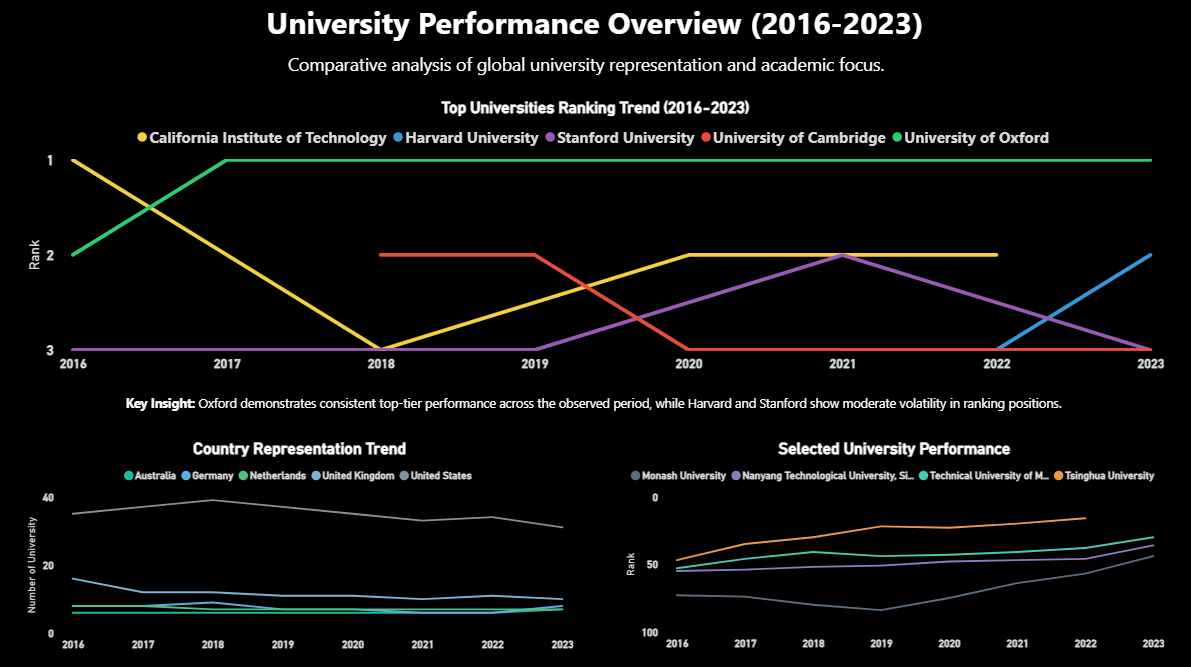

Layout of this report page (visuals, bound fields, positions):
{"tool":"powerbi","page":{"name":"Ranking Trend","canvas":[1280,720],"ordinal":2},"visuals":[{"type":"lineChart","title":"Country Representation Trend","fields":{"Series":["CLEANED DATA (2).location"],"Category":["CLEANED DATA (2).year"],"Y":["CountNonNull(CLEANED DATA (2).name)"]},"box":[30.2,469.2,590.1,232.2],"z":0},{"type":"lineChart","title":"Top Universities Ranking Trend (2016-2023)","fields":{"Category":["CLEANED DATA 2 (2).year"],"Series":["CLEANED DATA 2 (2).name"],"Y":["Sum(CLEANED DATA 2 (2).new rank)"]},"box":[30.2,108.2,1216.8,295.9],"z":1000},{"type":"lineChart","title":"Selected University Performance","fields":{"Category":["CLEANED DATA 2 (2).year"],"Y":["Sum(CLEANED DATA 2 (2).new rank)"],"Series":["CLEANED DATA 2 (2).name"]},"box":[664.9,469.2,582.2,230.6],"z":2000},{"type":"textbox","box":[30,0,1216,54],"z":3000},{"type":"textbox","box":[297.4,54.1,668.1,36.6],"z":4000},{"type":"textbox","box":[30.2,416.7,1216.8,33.4],"z":5000}]}

Visuals, with their boxes in screenshot pixels (x1, y1, x2, y2), scaled from the page's 1280x720 canvas onto the 1191x667 screenshot:
"Country Representation Trend" lineChart: pyautogui.locateOnScreen(28, 435, 577, 650)
"Top Universities Ranking Trend (2016-2023)" lineChart: pyautogui.locateOnScreen(28, 100, 1160, 374)
"Selected University Performance" lineChart: pyautogui.locateOnScreen(619, 435, 1160, 648)
textbox: pyautogui.locateOnScreen(28, 0, 1159, 50)
textbox: pyautogui.locateOnScreen(277, 50, 898, 84)
textbox: pyautogui.locateOnScreen(28, 386, 1160, 417)
